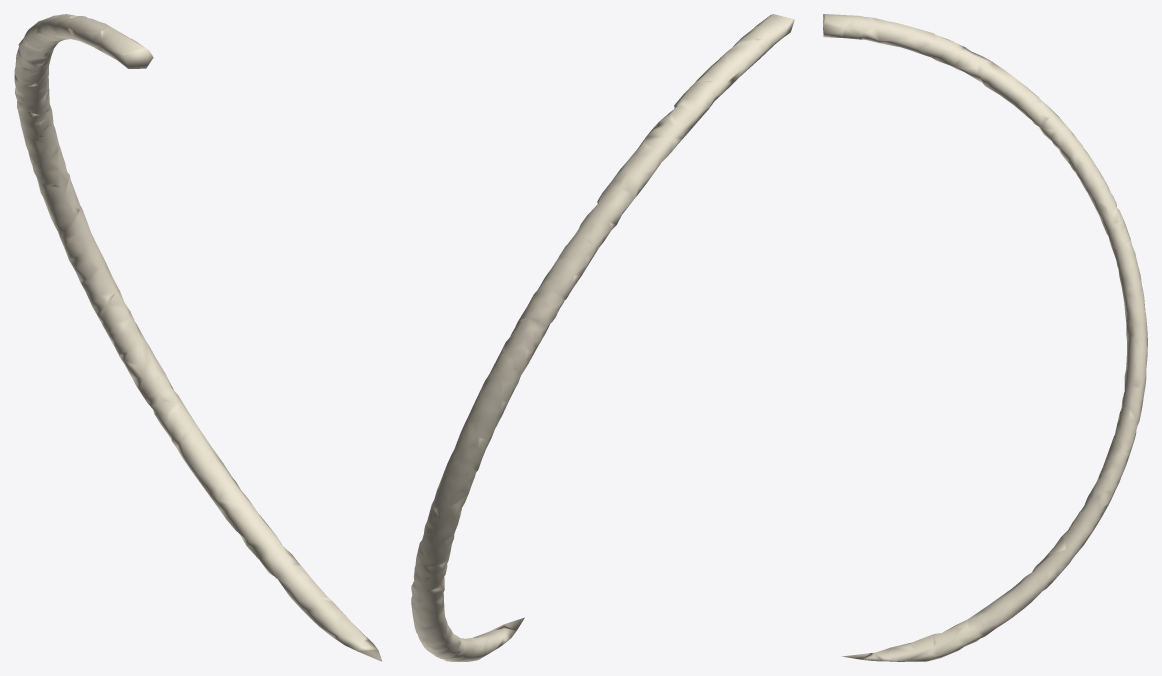
The model's file is rib_7_r.glb.
3 views of the same model, side by side, from view 1: azimuth 30°, elevation 25°; view 2: azimuth 150°, elevation 25°; view 3: azimuth 270°, elevation 25° (orthographic). The views are drawn at different scales.
Visible parts, largest first — view 1: geometry_0; view 2: geometry_0; view 3: geometry_0.
Boxes of the visible parts, <box> form: geometry_0: <box>14,14,382,661</box>; geometry_0: <box>411,14,794,661</box>; geometry_0: <box>823,14,1147,661</box>.
Size of the model in its own units: 0.3209 by 0.7333 by 0.3998.
